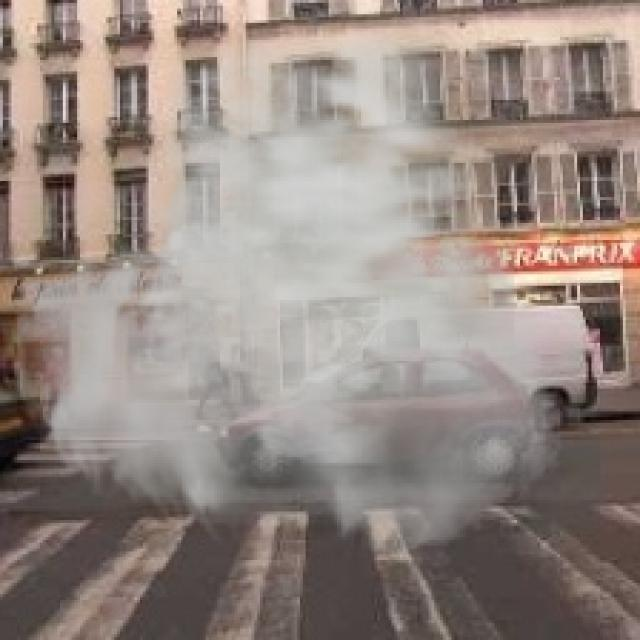smoke: (6, 0, 568, 557)
